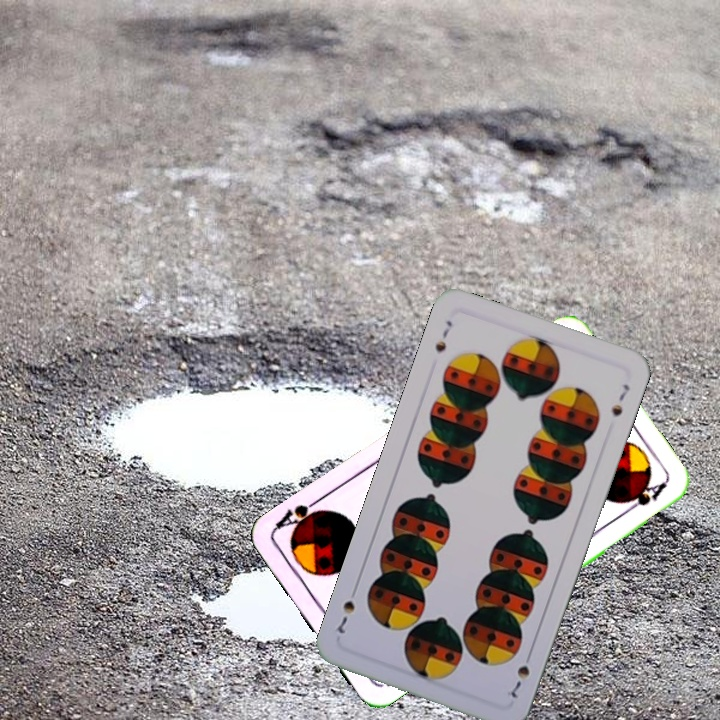S7: (506, 647, 535, 701), (431, 316, 455, 356)
